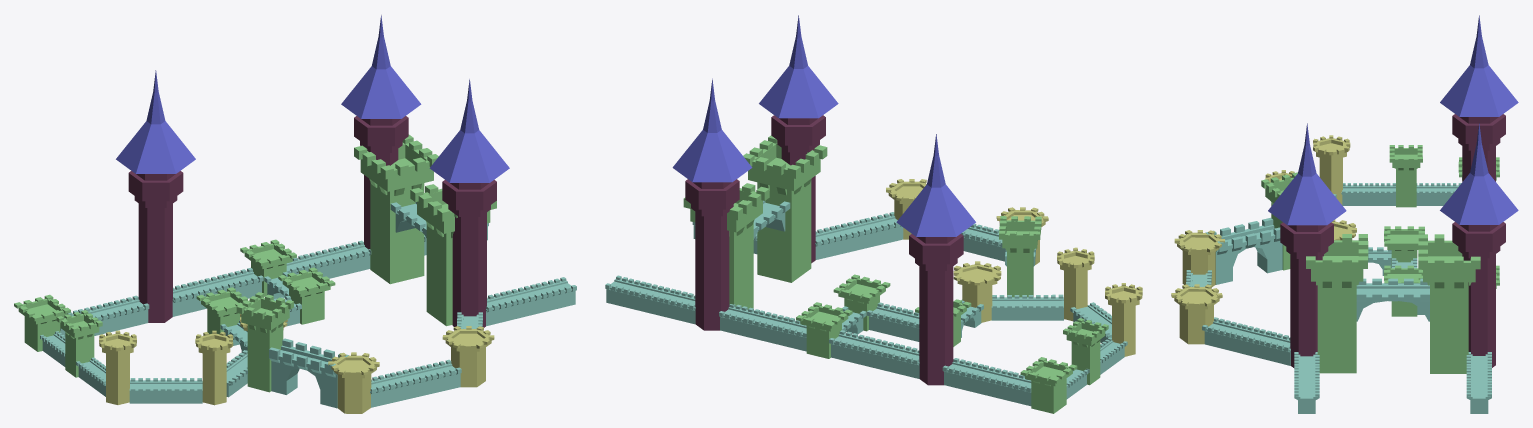
File: SampleCastle.fbx
The picture shows the model from 3 angles, left to right: view 1: azimuth 30°, elevation 25°; view 2: azimuth 150°, elevation 25°; view 3: azimuth 270°, elevation 25°; orthographic projection.
Parts seen in each view (by area): view 1: Circle.005, Circle.007, Cube.032, Circle.006, Cube.034, Cube.042, Cube.041, Circle.009, Circle.008, Circle.003, Circle.002, Cube.027 (+21 smaller); view 2: Circle.005, Circle.006, Cube.034, Circle.007, Cube.032, Cube.042, Cube.003, Cube.019, Cube.008, Circle.002, Circle.003, Circle.004 (+26 smaller); view 3: Circle.007, Circle.006, Cube.034, Cube.032, Circle.005, Cube.041, Circle.008, Cube.033, Circle.009, Cube.008, Circle.002, Cube.030 (+17 smaller).
Boxes of the visible parts, x1=… form: Circle.005: x1=116, y1=70, x2=195, y2=322; Circle.007: x1=429, y1=79, x2=509, y2=327; Cube.032: x1=354, y1=134, x2=438, y2=284; Circle.006: x1=341, y1=15, x2=421, y2=249; Cube.034: x1=410, y1=184, x2=496, y2=326; Cube.042: x1=236, y1=292, x2=293, y2=392; Cube.041: x1=269, y1=338, x2=348, y2=408; Circle.009: x1=328, y1=352, x2=379, y2=413; Circle.008: x1=442, y1=326, x2=494, y2=387; Circle.003: x1=195, y1=330, x2=233, y2=405; Circle.002: x1=99, y1=330, x2=136, y2=404; Cube.027: x1=278, y1=267, x2=335, y2=324; Circle.005: x1=896, y1=134, x2=975, y2=385; Circle.006: x1=672, y1=78, x2=752, y2=330; Cube.034: x1=743, y1=135, x2=827, y2=282; Circle.007: x1=759, y1=15, x2=838, y2=263; Cube.032: x1=683, y1=183, x2=769, y2=309; Cube.042: x1=999, y1=216, x2=1041, y2=297; Cube.003: x1=1020, y1=357, x2=1077, y2=413; Cube.019: x1=796, y1=302, x2=852, y2=358; Cube.008: x1=1063, y1=318, x2=1108, y2=385; Circle.002: x1=1105, y1=283, x2=1142, y2=356; Circle.003: x1=1057, y1=247, x2=1094, y2=321; Circle.004: x1=953, y1=261, x2=1001, y2=322; Circle.007: x1=1268, y1=123, x2=1346, y2=367; Circle.006: x1=1440, y1=123, x2=1518, y2=367; Cube.034: x1=1306, y1=234, x2=1368, y2=373; Cube.032: x1=1418, y1=234, x2=1480, y2=373; Circle.005: x1=1440, y1=15, x2=1518, y2=181; Cube.041: x1=1205, y1=217, x2=1282, y2=284; Circle.008: x1=1171, y1=284, x2=1222, y2=344; Cube.033: x1=1356, y1=278, x2=1429, y2=321; Circle.009: x1=1174, y1=230, x2=1224, y2=286; Cube.008: x1=1389, y1=145, x2=1422, y2=207; Circle.002: x1=1313, y1=135, x2=1350, y2=204; Cube.030: x1=1384, y1=226, x2=1424, y2=267.
Size of the model in its own units: 18004 by 9298 by 12034.
